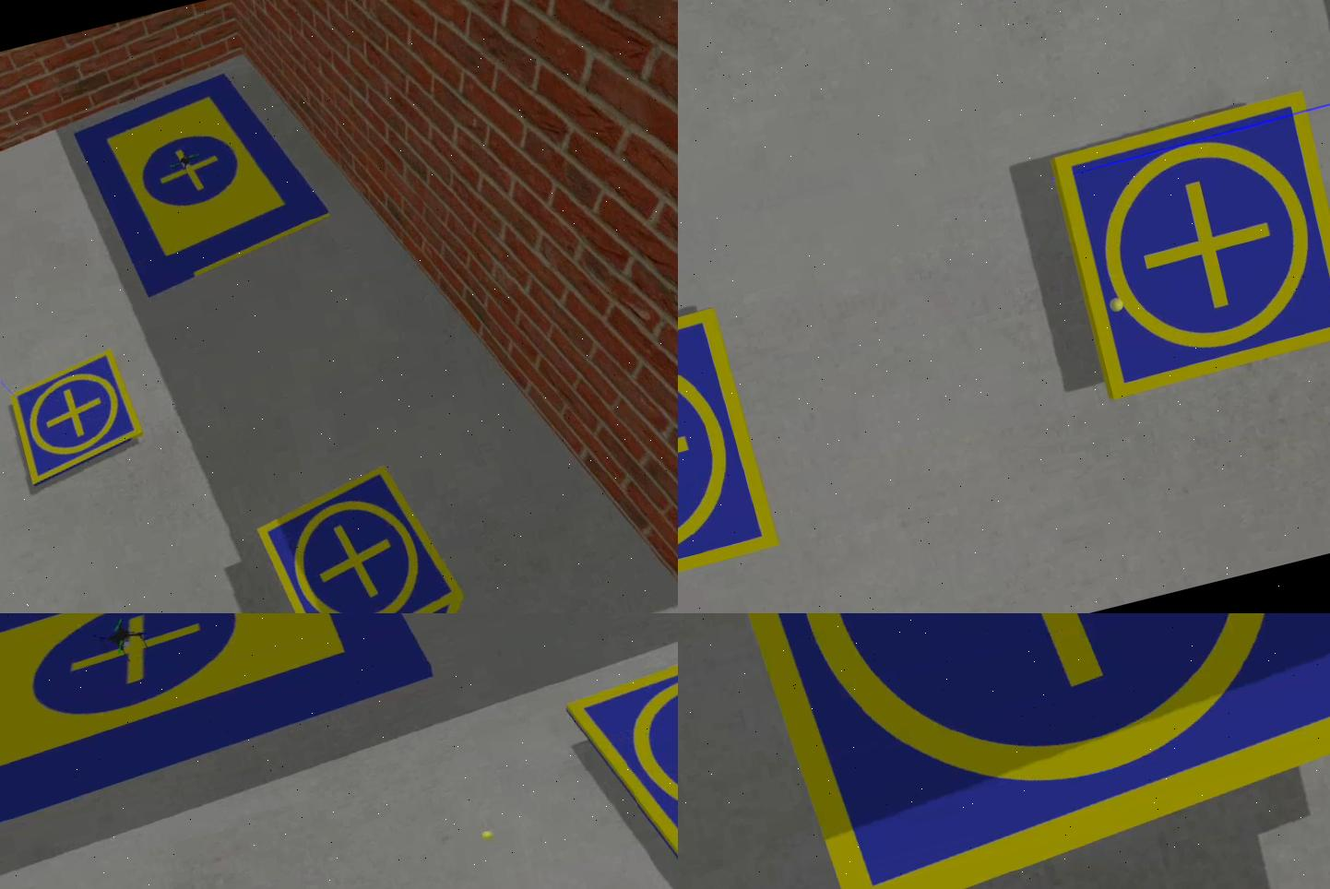large_base: (1, 614, 440, 849), (68, 58, 343, 306)
small_base: (679, 614, 1330, 889), (1049, 91, 1330, 401), (252, 456, 477, 614), (560, 614, 679, 889), (679, 302, 782, 614), (1, 345, 149, 492)
